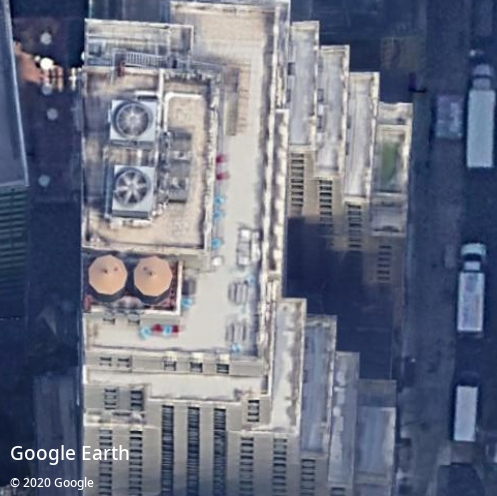Vent: (116, 170, 149, 205), (116, 104, 149, 138)
